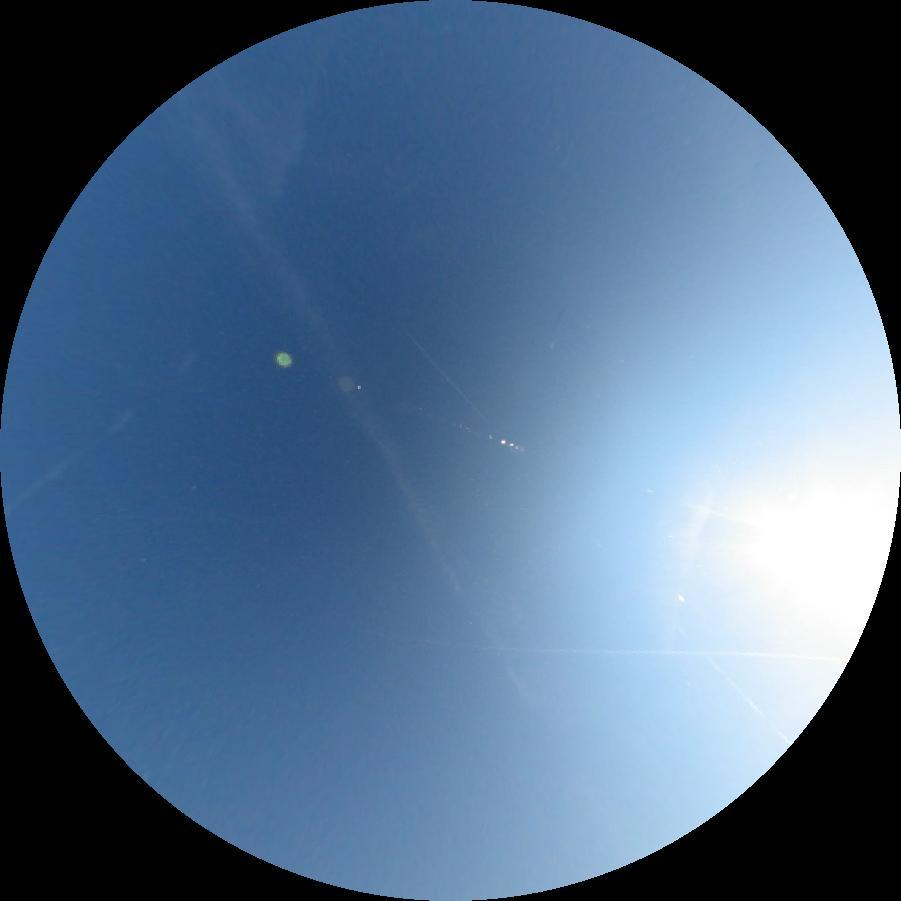contrail veryold: (148, 76, 539, 716)
contrail young: (485, 426, 794, 749), (433, 641, 848, 665)
sun: (730, 449, 901, 660)
